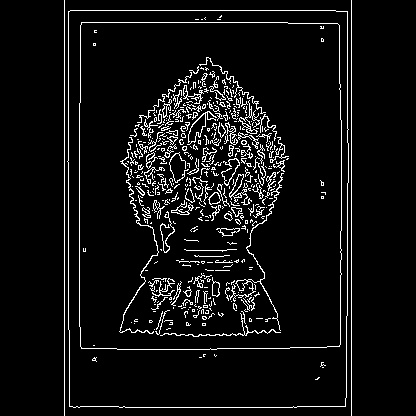buddha-sitting: (98, 157, 207, 192)
